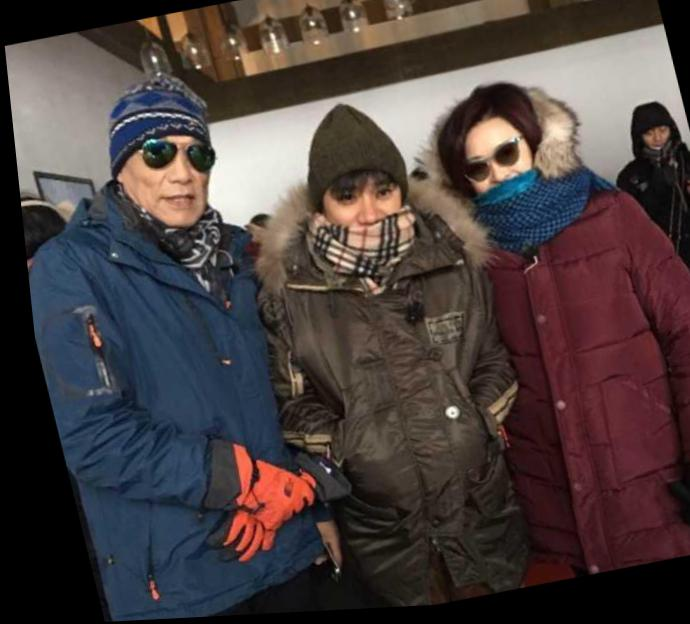NONE: (111, 122, 223, 231), (636, 129, 672, 164)
WRONG: (315, 174, 409, 260), (452, 137, 538, 221)
